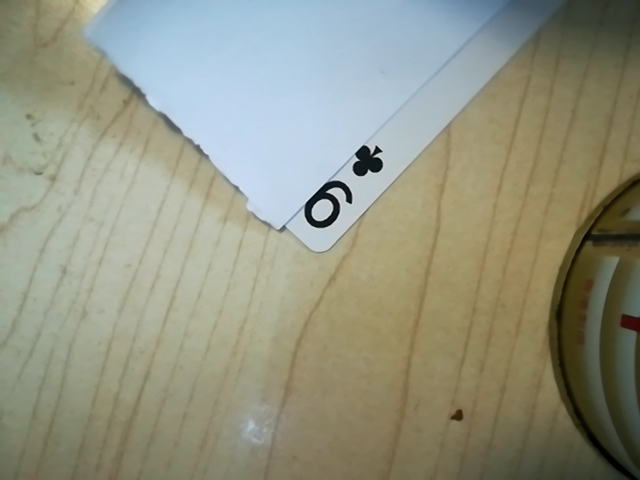mh 9: (292, 132, 393, 242)
